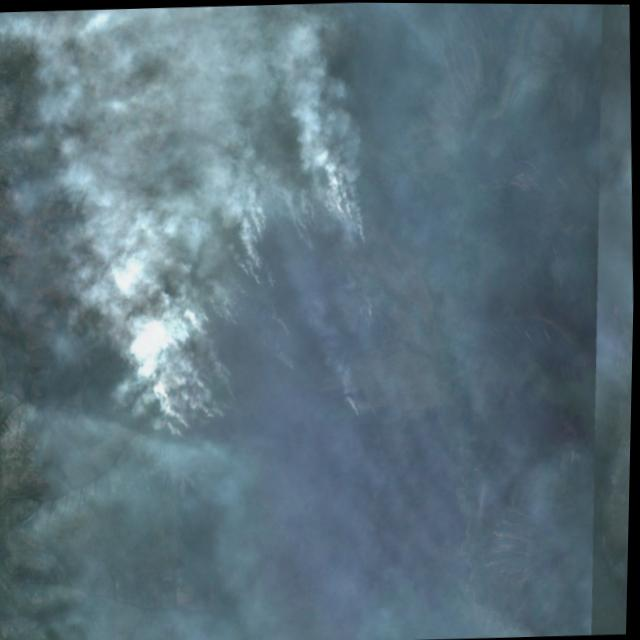fire: (162, 392, 242, 442), (241, 212, 278, 289), (326, 196, 371, 252), (199, 285, 246, 335), (333, 384, 368, 425), (297, 214, 321, 259), (279, 319, 297, 370), (356, 298, 379, 323)
